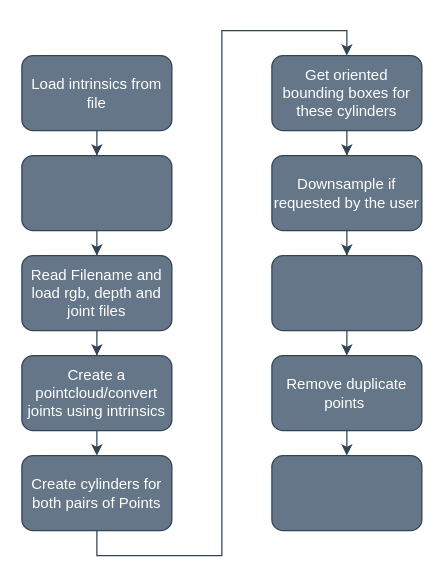
Some shapes in this 444 by 588 pixel diagram are drawn without their labels. The centre of each missing label's shape, as x and y in pixels:
"Create file selection and downsampling dialog" belongs at point 96,192.
"Get all the points that are enclosed by the bounding boxes" belongs at point 346,292.
"Visualise using Open3D" belongs at point 346,492.
